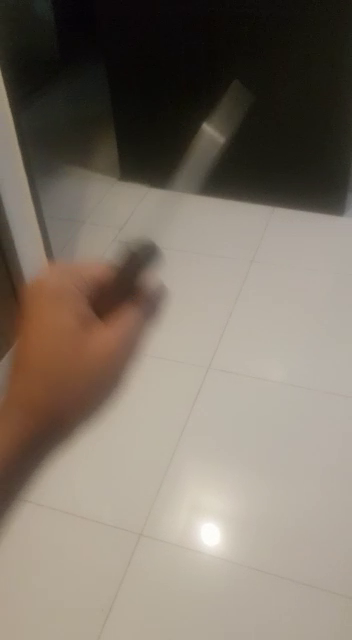knife: (30, 55, 304, 417)
